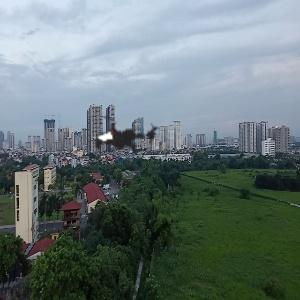drone: (75, 81, 179, 185)
